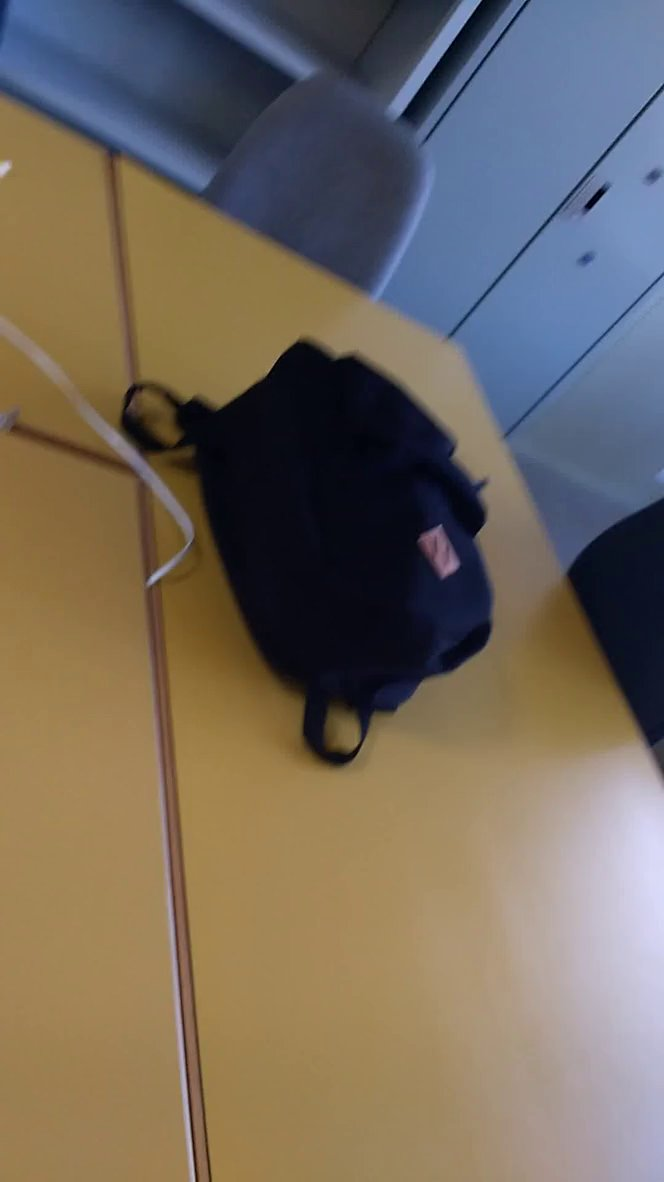bag: (117, 317, 512, 775)
chair: (192, 40, 441, 330)
